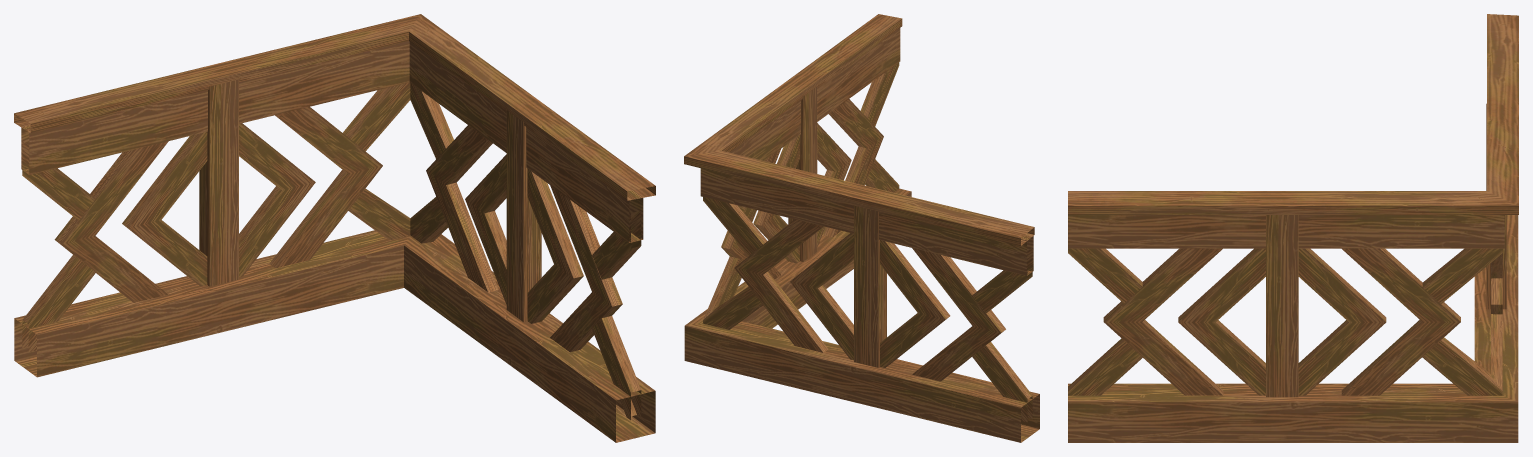
File: Balcony_Cross_Corner.gltf
The picture shows the model from 3 angles, left to right: view 1: azimuth 30°, elevation 25°; view 2: azimuth 150°, elevation 25°; view 3: azimuth 270°, elevation 25°; orthographic projection. The views are drawn at different scales.
Parts seen in each view (by area): view 1: Balcony_Cross_Corner; view 2: Balcony_Cross_Corner; view 3: Balcony_Cross_Corner.
Part boxes in pixels (bbox=[...]): Balcony_Cross_Corner: bbox=[14, 14, 655, 442]; Balcony_Cross_Corner: bbox=[684, 14, 1039, 442]; Balcony_Cross_Corner: bbox=[1068, 14, 1518, 442].
Size of the model in its own units: 2.1 by 1.23 by 2.1.
Materials: 1 (1 with a texture image).
